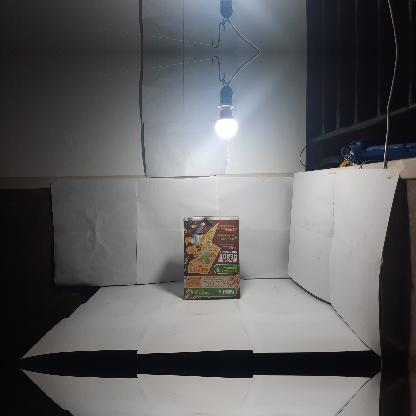Koko-Krunch: (183, 216, 240, 298)
